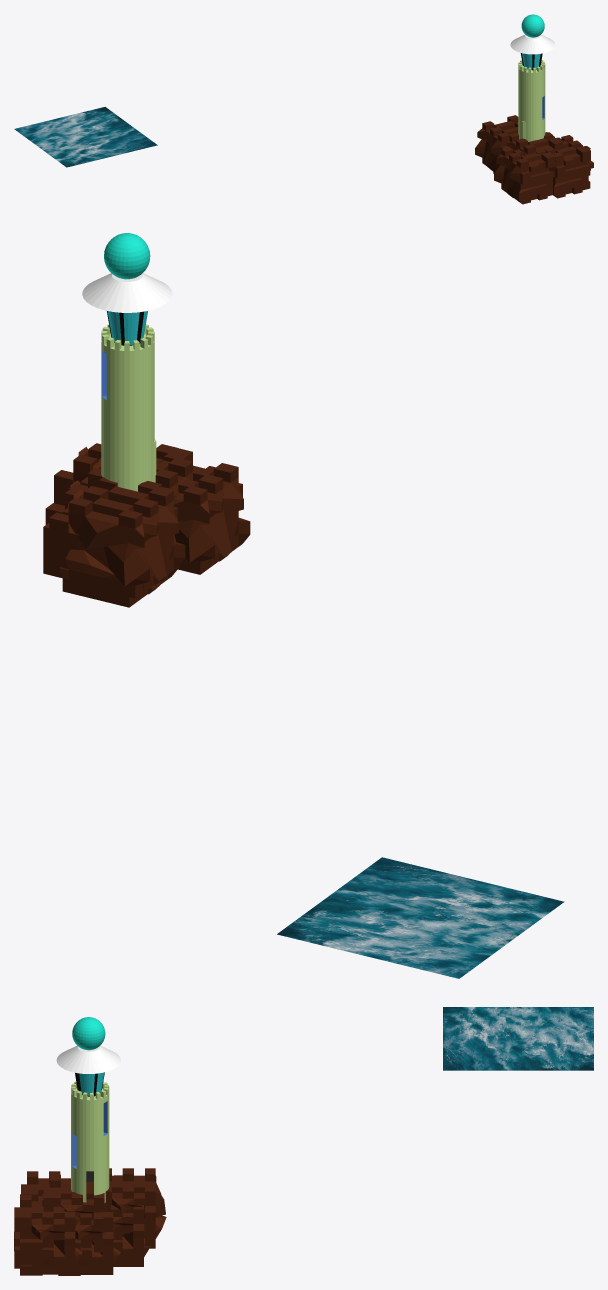
Rendered from FARO.glb.
3 views of the same model, one above another, from view 1: azimuth 30°, elevation 25°; view 2: azimuth 150°, elevation 25°; view 3: azimuth 270°, elevation 25° (orthographic). The views are drawn at different scales.
Parts seen in each view (by area): view 1: Plano, Cube.001, Cilindro, Cube.005, Cube.004, Cube, Cilindro.002, Esfera, Cilindro.001; view 2: Plano, Cube.004, Cilindro, Cube.001, Cilindro.002, Esfera, Cube.003, Cube, Cube.005, Cilindro.001; view 3: Plano, Cube.005, Cilindro, Cube.004, Cube.002, Cube, Cube.003, Cilindro.002, Esfera, Cube.001, Cilindro.001.
Boxes of the visible parts, bbox=[...] form: Plano: bbox=[14, 107, 157, 167]; Cube.001: bbox=[494, 146, 555, 204]; Cilindro: bbox=[518, 60, 545, 141]; Cube.005: bbox=[545, 135, 593, 198]; Cube.004: bbox=[475, 115, 518, 172]; Cube: bbox=[507, 132, 562, 156]; Cilindro.002: bbox=[510, 34, 555, 54]; Esfera: bbox=[521, 14, 544, 37]; Cilindro.001: bbox=[520, 53, 542, 70]; Plano: bbox=[277, 857, 564, 978]; Cube.004: bbox=[49, 477, 185, 598]; Cilindro: bbox=[101, 324, 156, 491]; Cube.001: bbox=[157, 447, 250, 574]; Cilindro.002: bbox=[82, 273, 172, 312]; Esfera: bbox=[104, 233, 150, 279]; Cube.003: bbox=[43, 503, 179, 607]; Cube: bbox=[68, 457, 192, 541]; Cube.005: bbox=[54, 443, 178, 505]; Cilindro.001: bbox=[107, 311, 147, 345]; Plano: bbox=[443, 1007, 593, 1070]; Cube.005: bbox=[14, 1194, 82, 1275]; Cilindro: bbox=[71, 1081, 109, 1202]; Cube.004: bbox=[105, 1168, 166, 1248]; Cube.002: bbox=[58, 1212, 120, 1275]; Cube: bbox=[43, 1174, 105, 1252]; Cube.003: bbox=[91, 1205, 150, 1266]; Cilindro.002: bbox=[56, 1045, 120, 1073]; Esfera: bbox=[72, 1017, 105, 1050]; Cube.001: bbox=[21, 1171, 70, 1201]; Cilindro.001: bbox=[75, 1072, 104, 1096].
Bounding box in the file's own units: 277 × 116 × 253.
9 materials, 1 textured.
